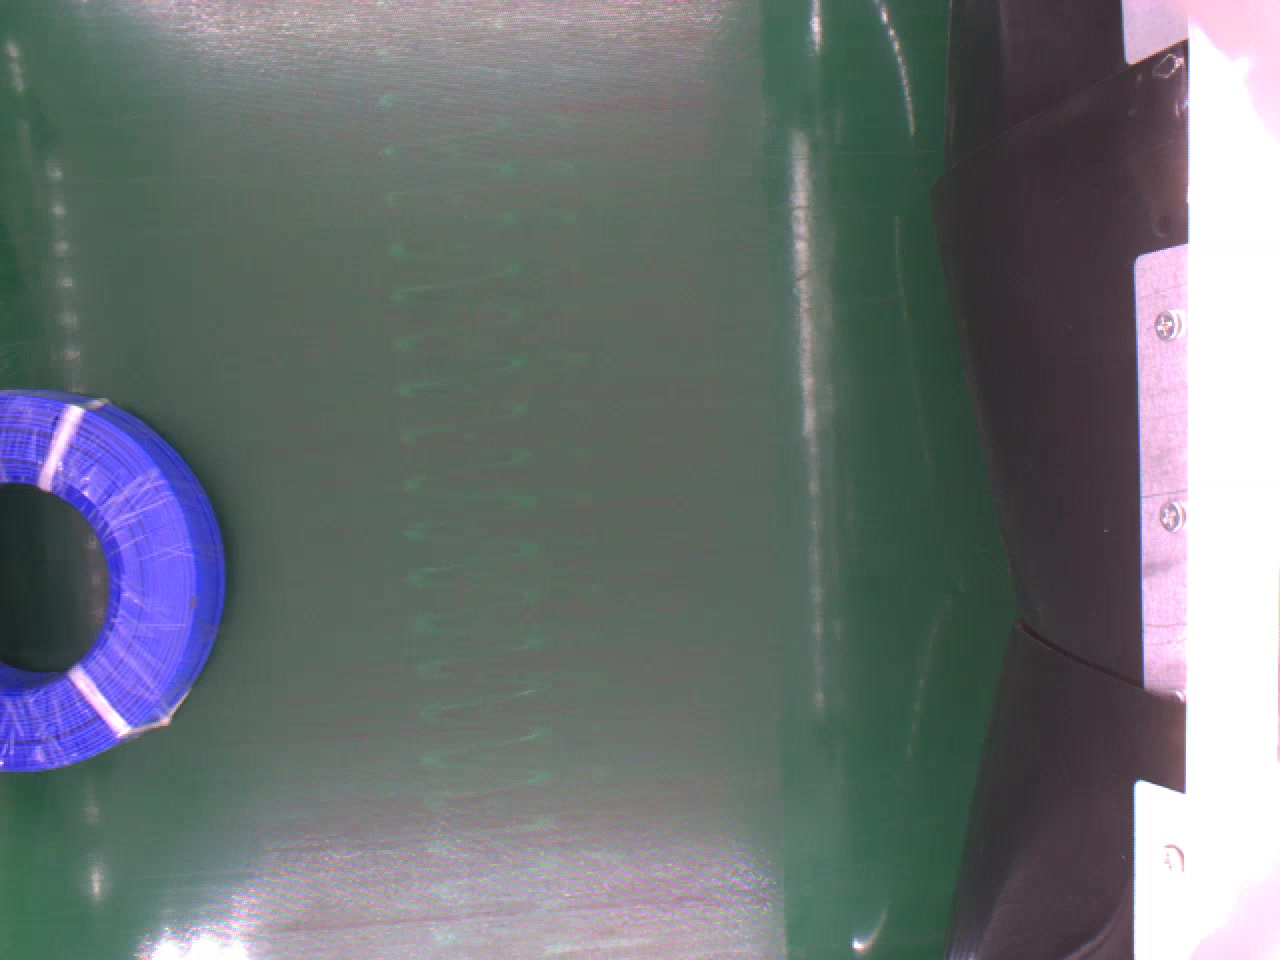blue: (0, 383, 227, 770)
